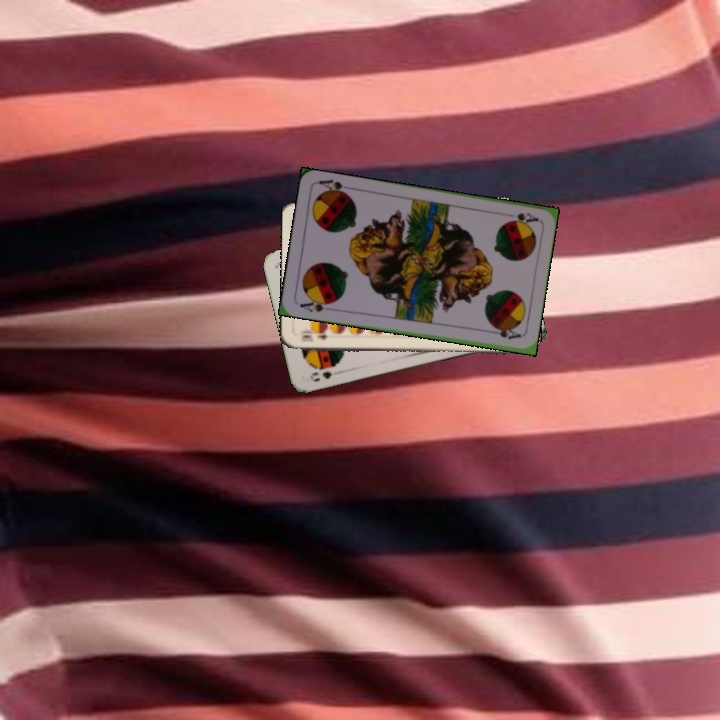E10: (296, 327, 331, 345)
SA: (296, 294, 336, 315), (504, 209, 541, 227)
SO: (305, 367, 335, 384)
